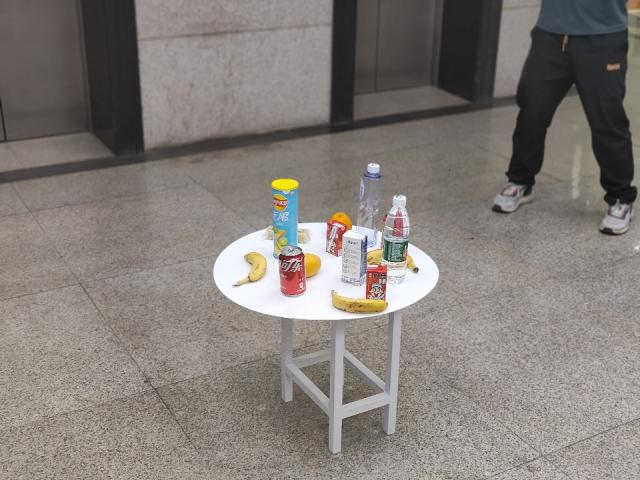Canned_drinks: (280, 245, 306, 296)
bottle: (386, 194, 410, 284), (359, 163, 382, 233)
cylinder: (273, 180, 299, 243)
drink_box: (342, 232, 368, 284), (326, 218, 343, 258), (370, 267, 388, 298)
